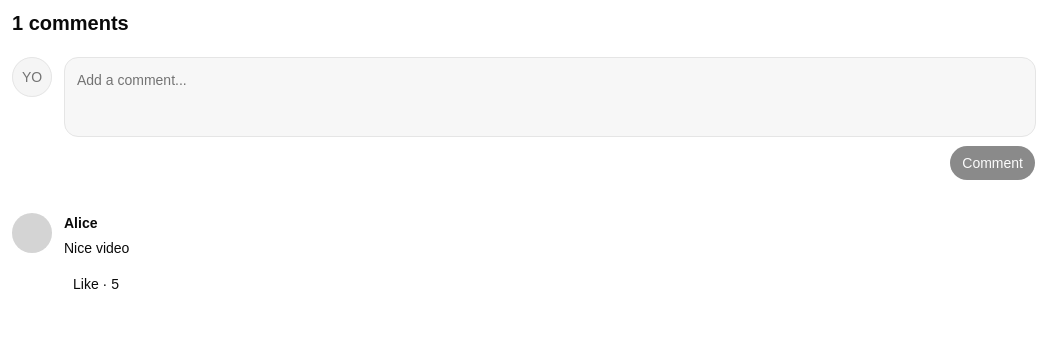
Test: CommentsSection comment likes › shows an error and leaves the comment available for retry
Click the button "Like · 5": (96, 284) [64,268,128,300]
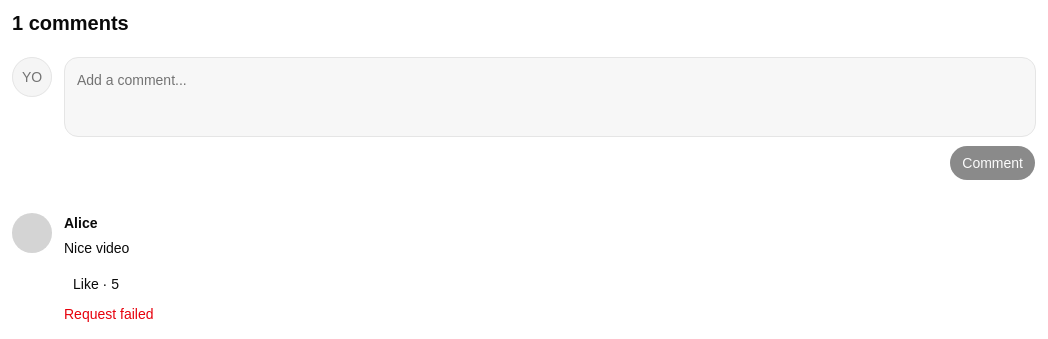
Check: the message reads "Request failed", box [64,306,154,322]
